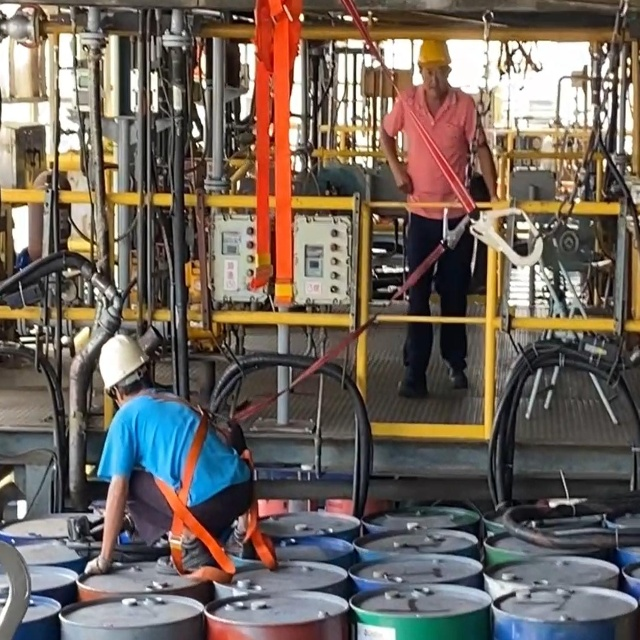Arnes_seguridad: (126, 393, 279, 573)
